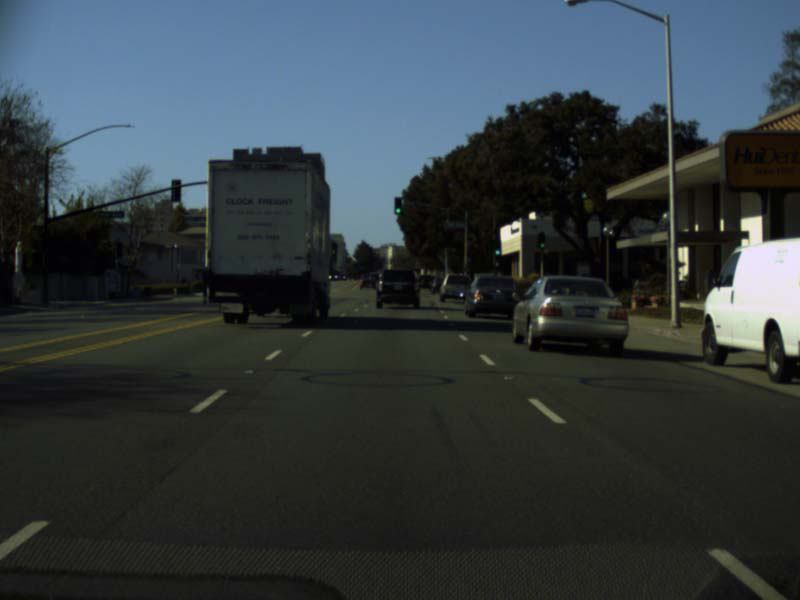Green: (394, 196, 402, 214), (538, 231, 545, 249), (494, 239, 500, 254)
